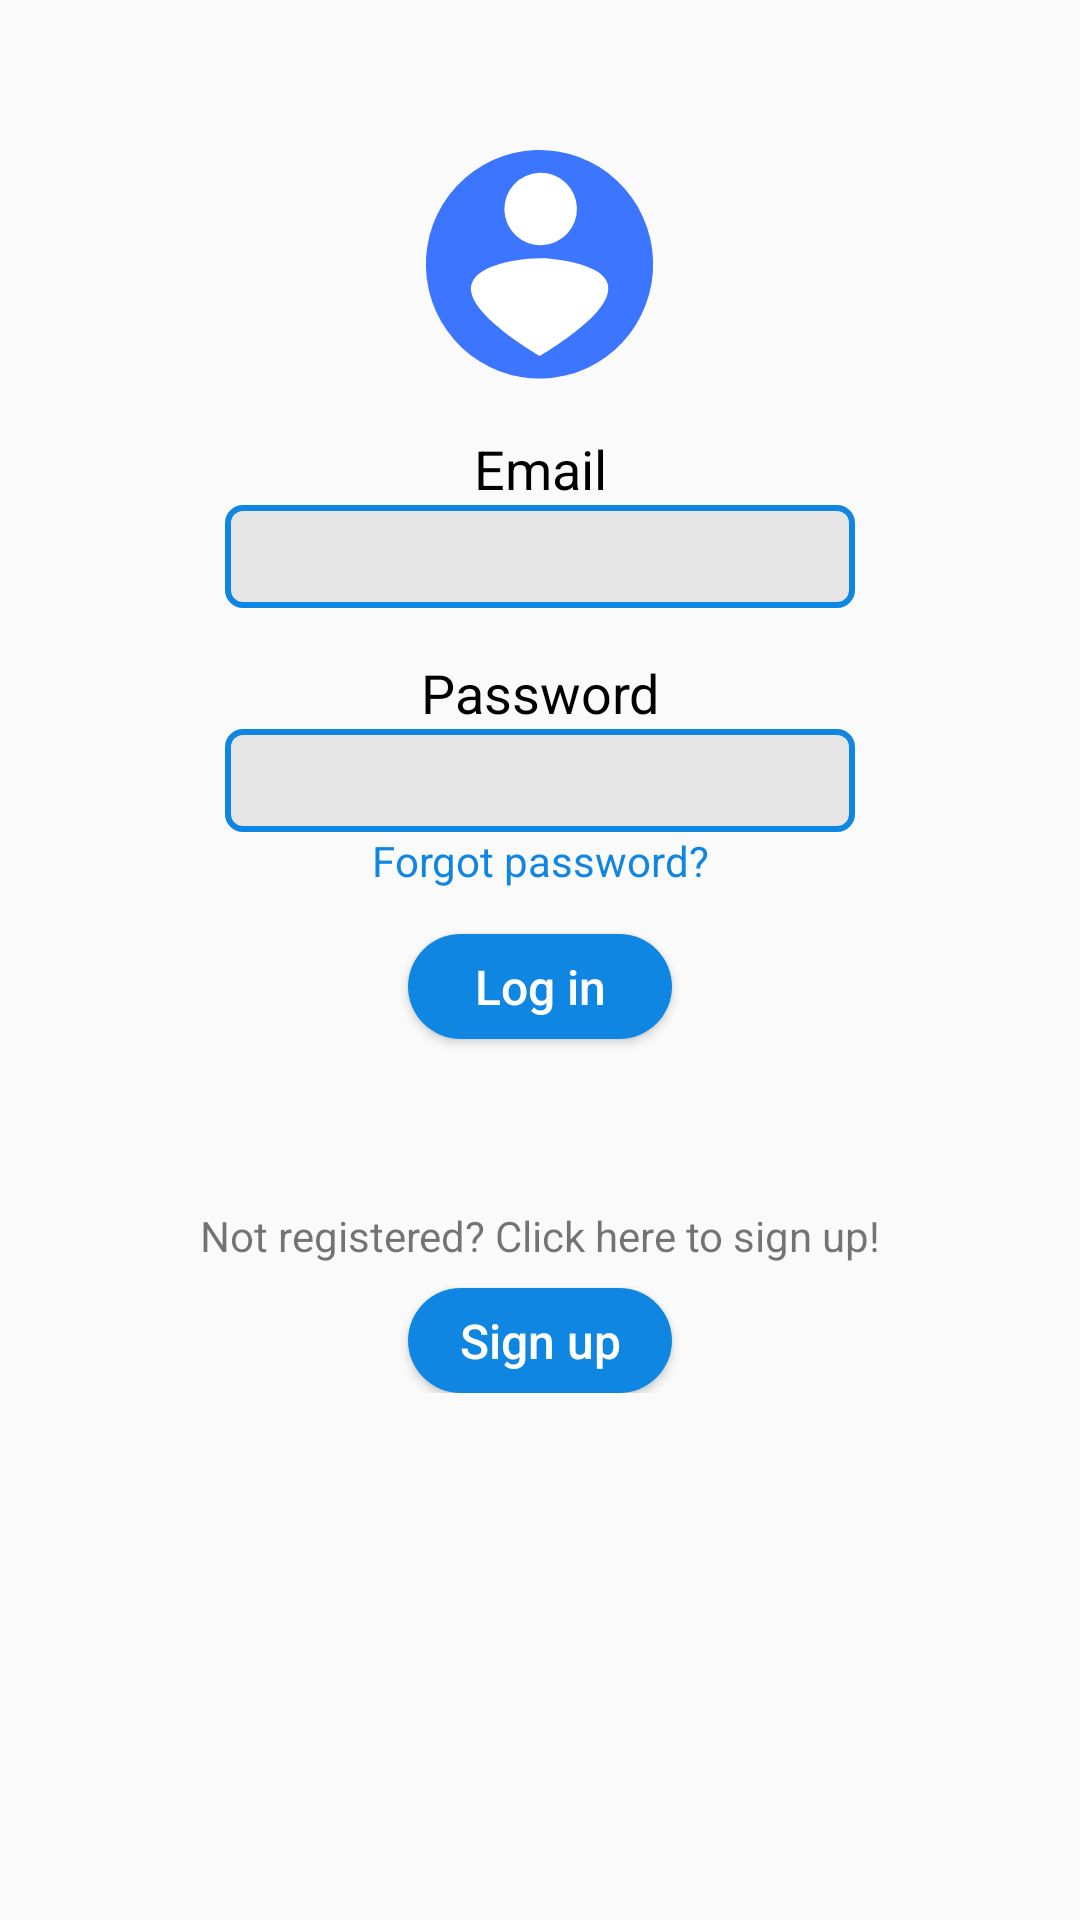

Icons on this 1080px×1920px Android screen, each with its box as (left=x1, top=y1, right=x2, bottom=y2):
usericon: (left=426, top=150, right=653, bottom=379)
